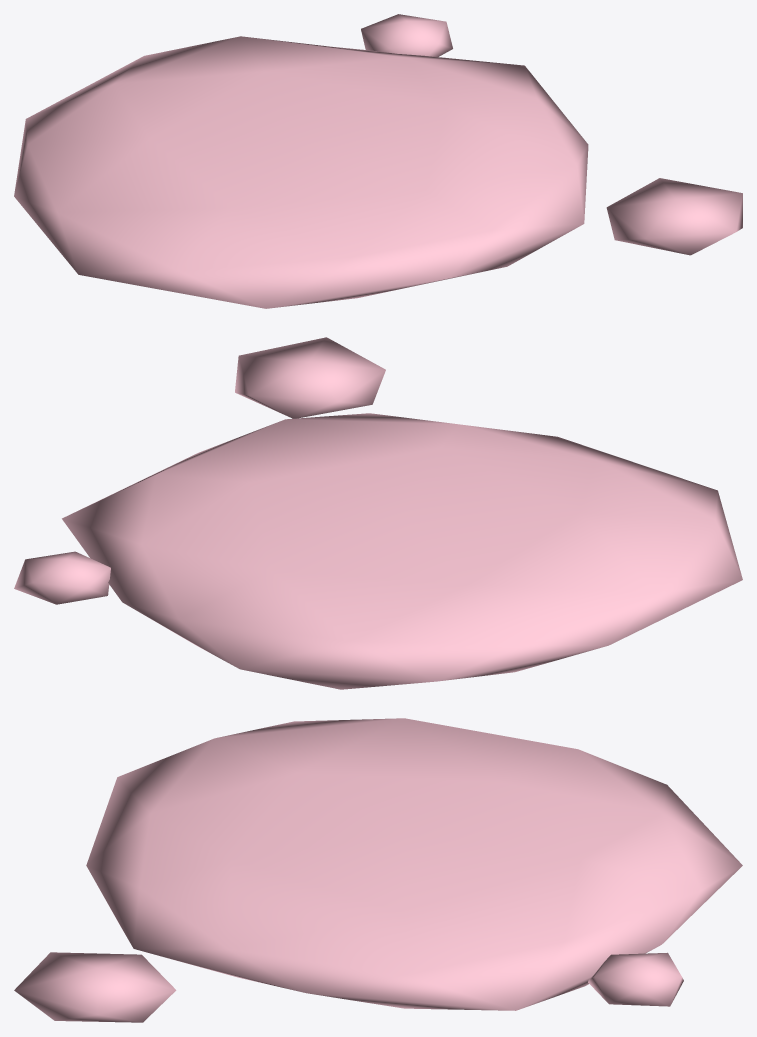
The model's file is Lake_WaxPad0.fbx.
The picture shows the model from 3 angles, top to bottom: view 1: azimuth 30°, elevation 25°; view 2: azimuth 150°, elevation 25°; view 3: azimuth 270°, elevation 25°; orthographic projection. The views are drawn at different scales.
Parts seen in each view (by area): view 1: Lake_WaxPad0; view 2: Lake_WaxPad0; view 3: Lake_WaxPad0.
Boxes of the visible parts, box(x1,y1,x2,y2) form: Lake_WaxPad0: box(14, 14, 742, 308); Lake_WaxPad0: box(14, 337, 742, 689); Lake_WaxPad0: box(14, 718, 742, 1022).
Size of the model in its own units: 3.42 by 0.3495 by 3.49.
